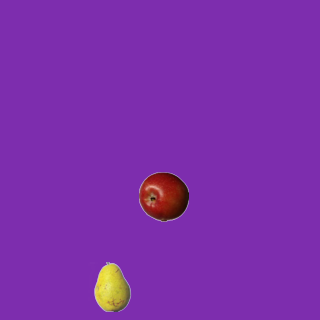Apple Braeburn: (138, 171, 188, 221)
Pear Monster: (87, 261, 137, 311)
